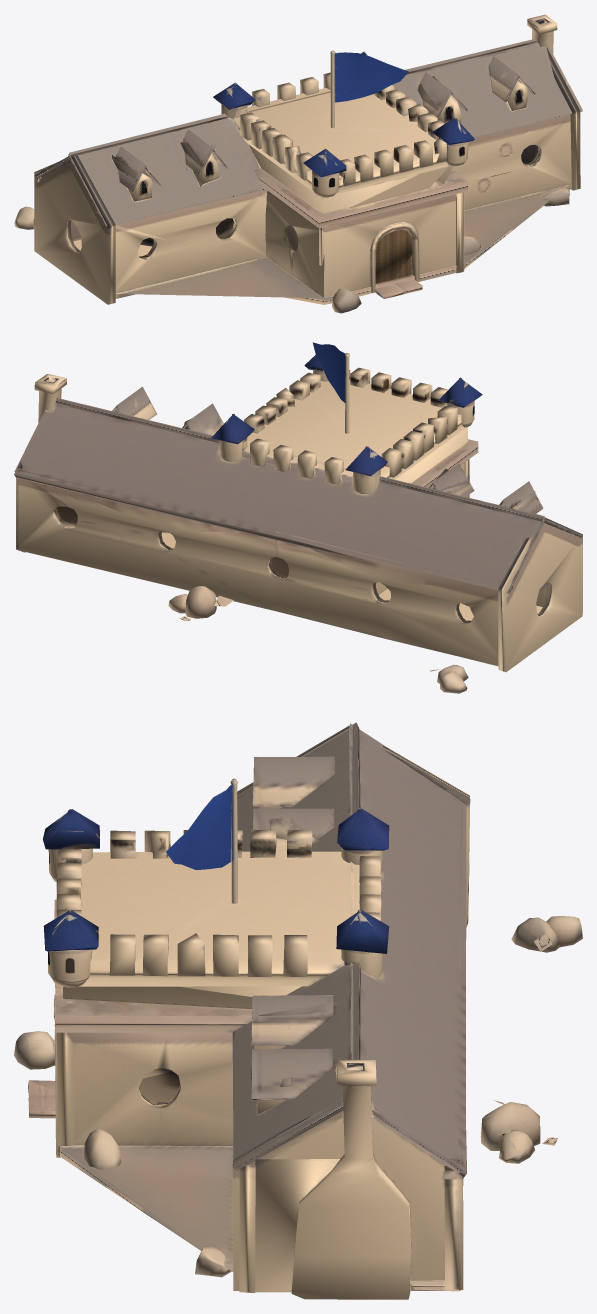
Rendered from meshy-c8-d1.glb.
The picture shows the model from 3 angles, top to bottom: view 1: azimuth 30°, elevation 25°; view 2: azimuth 150°, elevation 25°; view 3: azimuth 270°, elevation 25°; orthographic projection. The views are drawn at different scales.
Bounding box in the file's own units: 1 × 0.3943 × 0.6364.
Materials: 1 (1 with a texture image).
